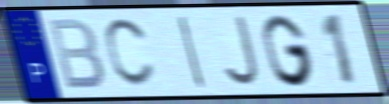1: (318, 12, 358, 88)
B: (45, 16, 108, 92)
C: (102, 16, 158, 91)
G: (260, 12, 317, 89)
I: (176, 14, 208, 91)
J: (220, 14, 262, 89)
